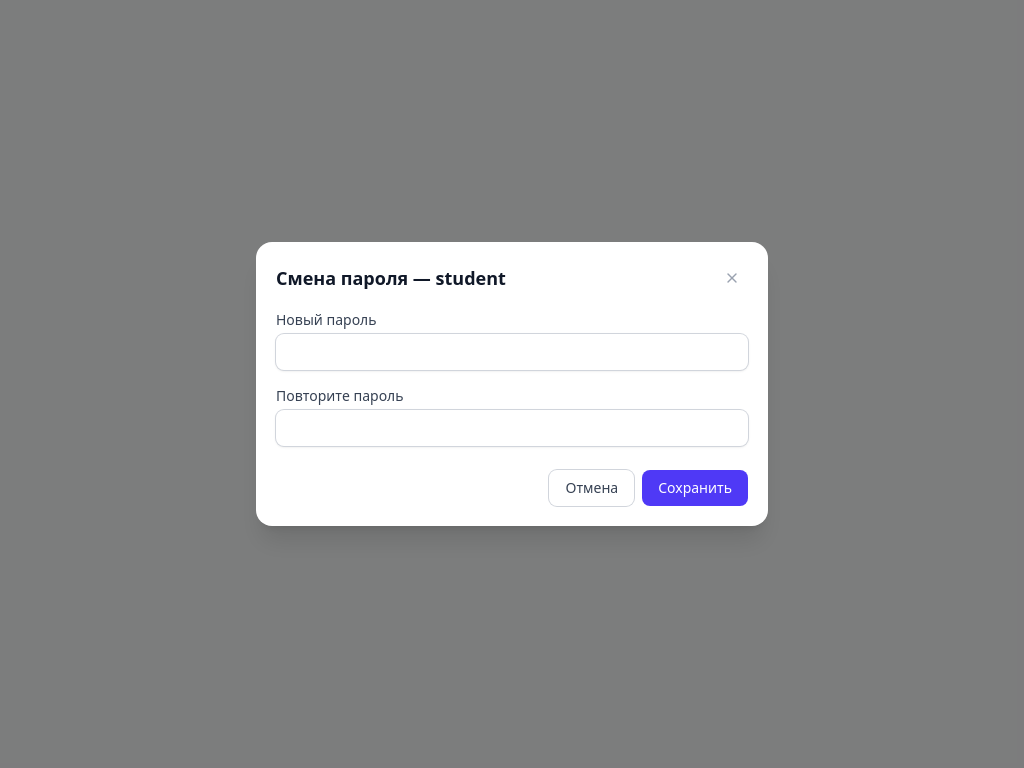
Test: ChangePasswordModal › rejects a password shorter than 6 characters
Type "123" into the password field labelled "Новый пароль" at (512, 352), box [276,334,748,370]
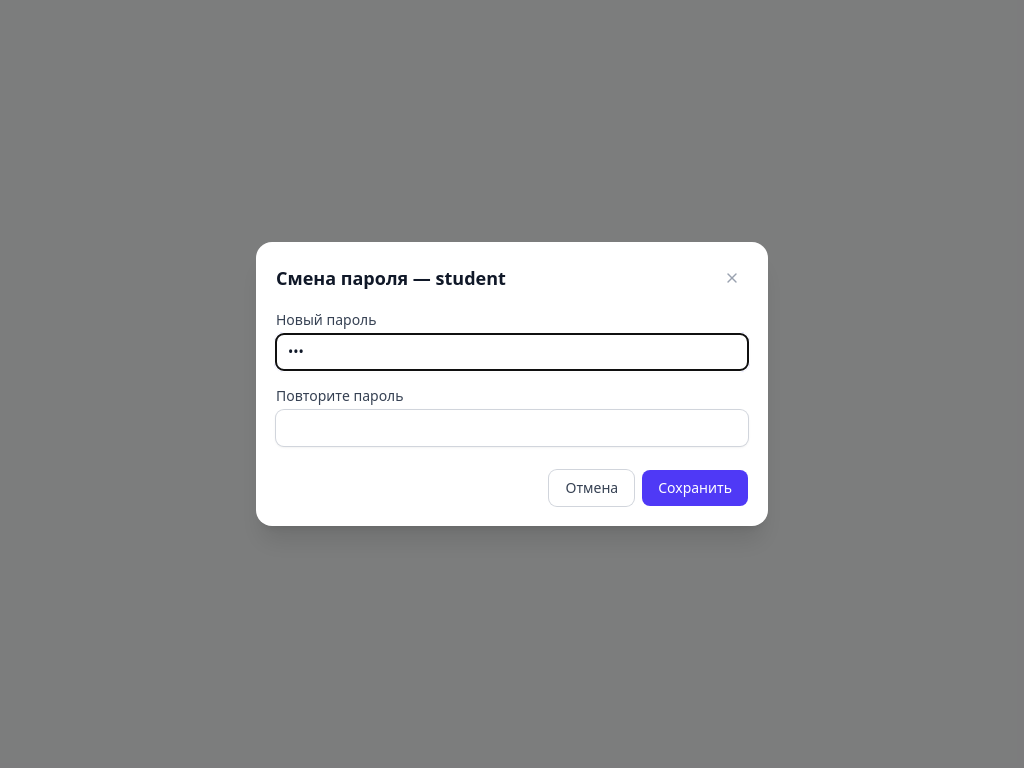
Type "123" into the password field labelled "Повторите пароль" at (512, 428), box [276,410,748,446]
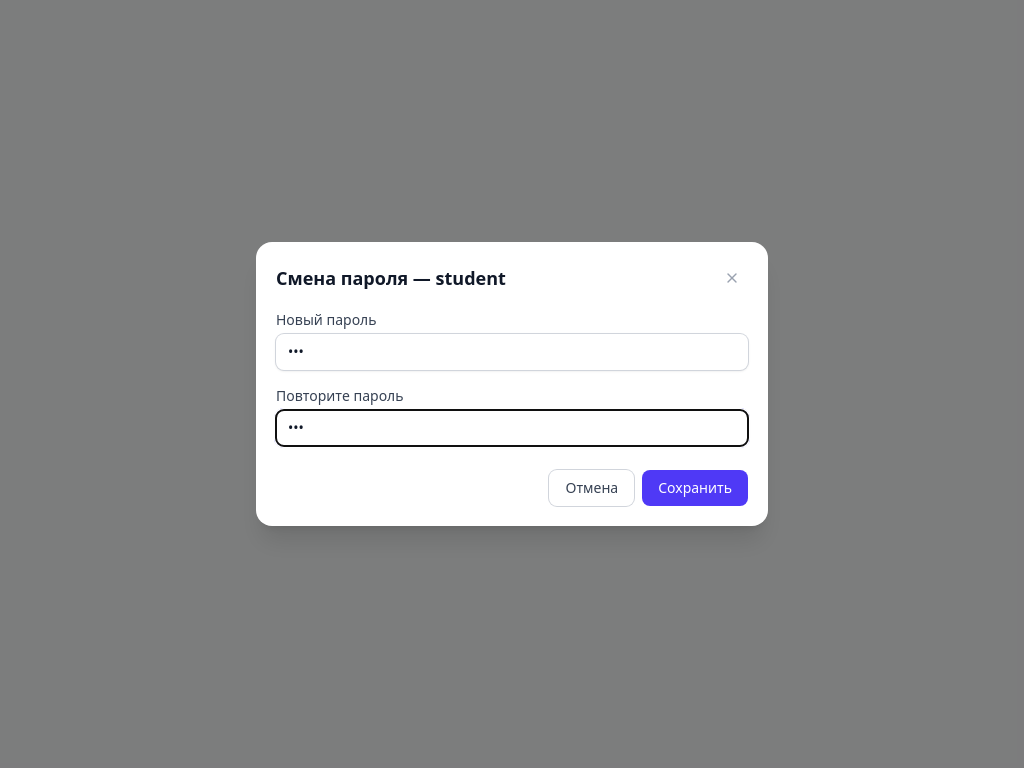
Click the button "Сохранить" at (695, 488), box [642,470,748,506]
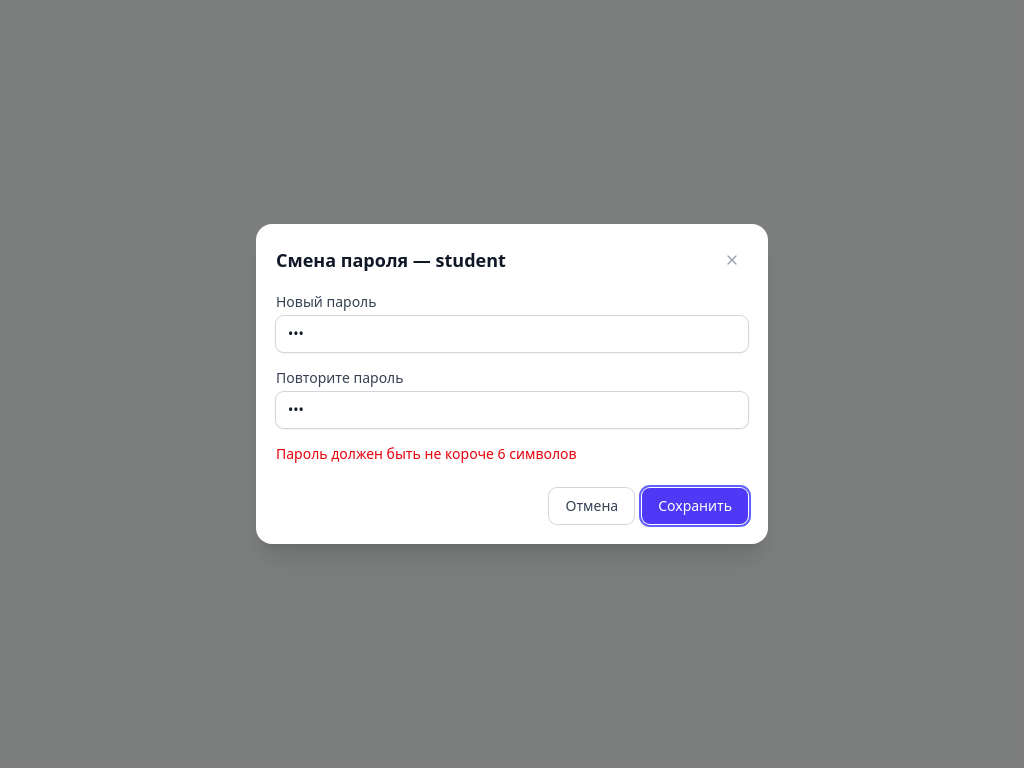
Now the text "Пароль должен быть не короче 6 символов" is shown, box [276,444,577,463]
